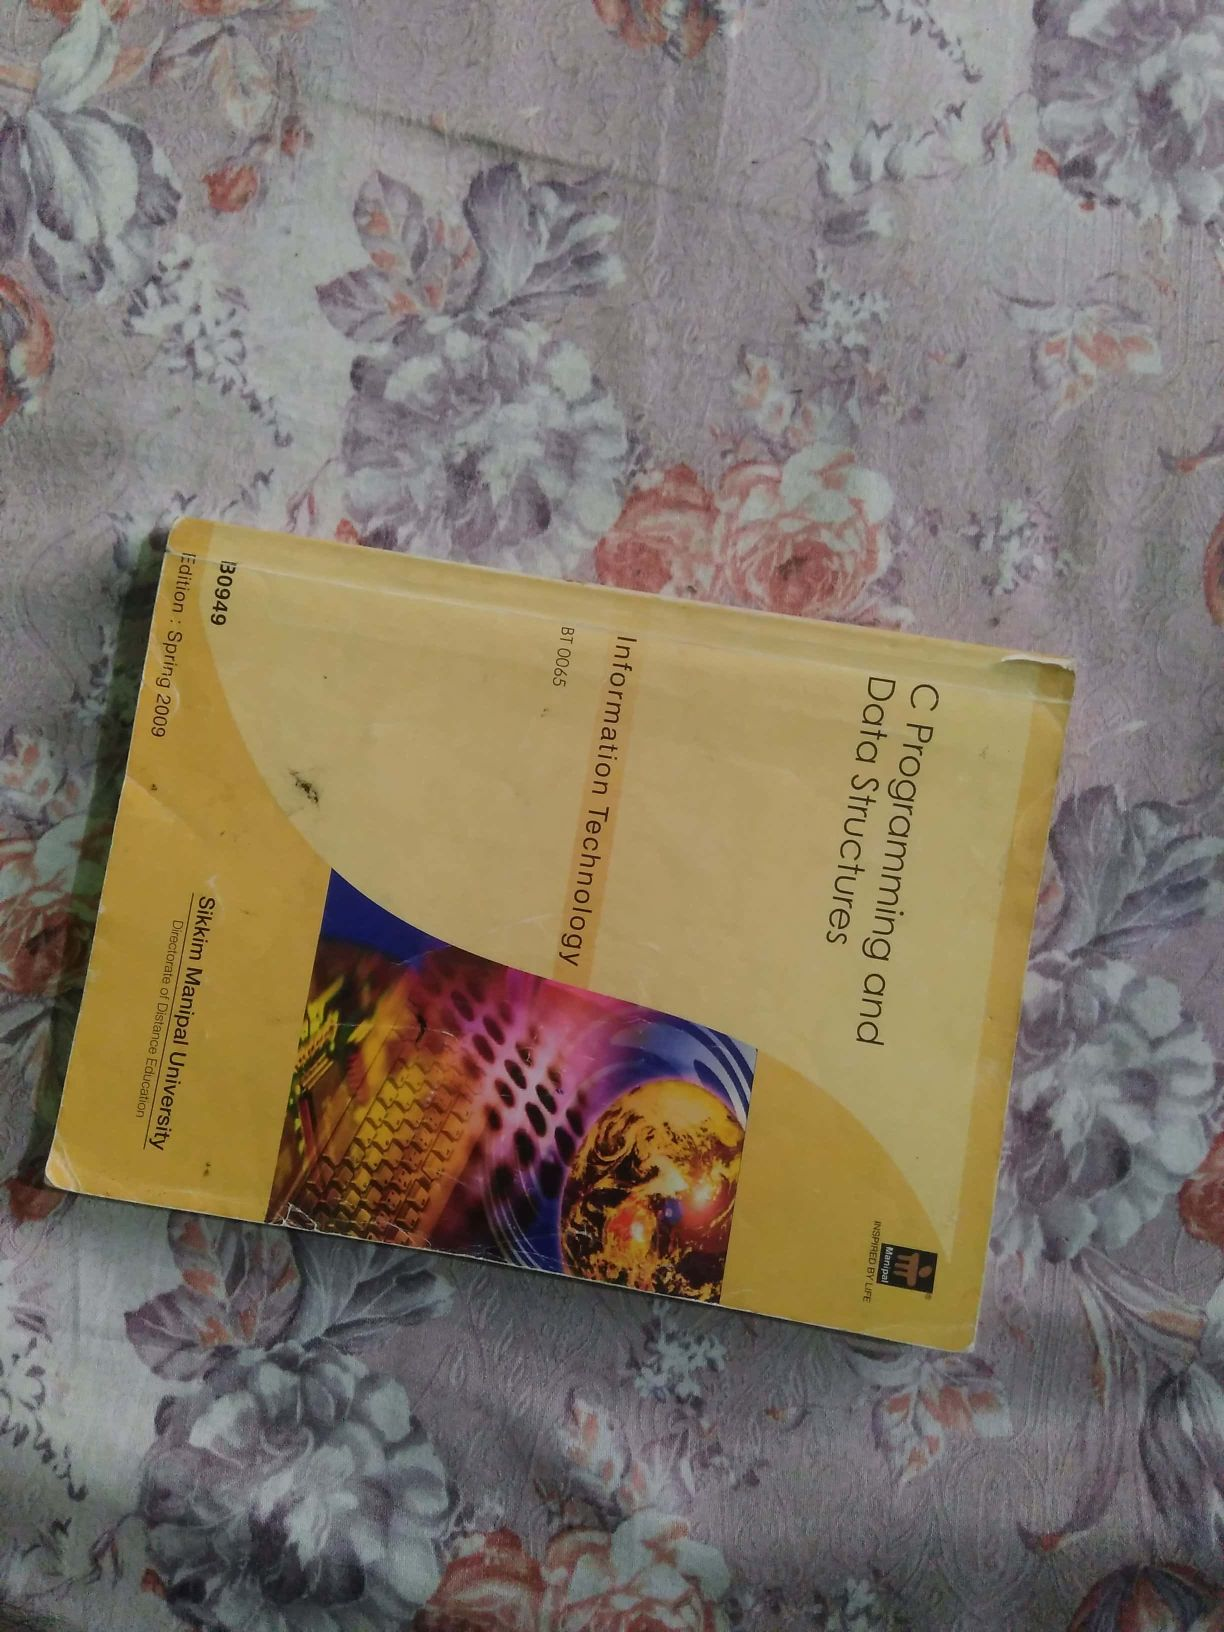clang: (39, 495, 1085, 1360)
